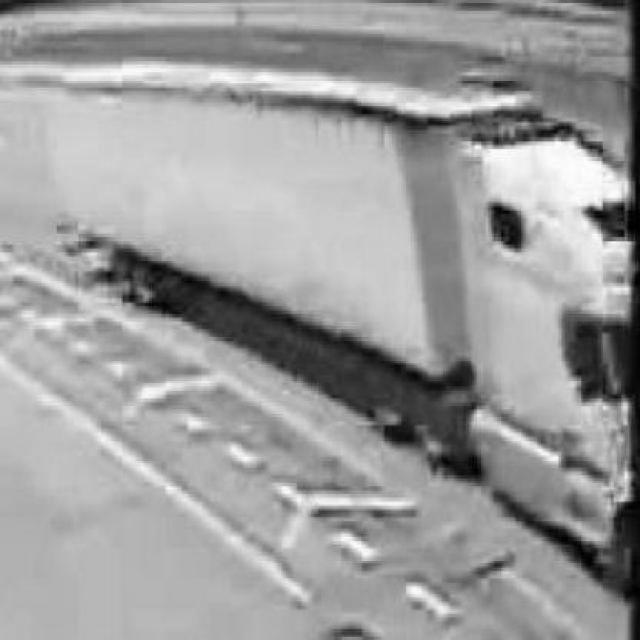Tractor Trailer: (46, 57, 640, 545)
